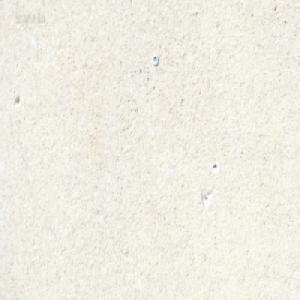Washer: (152, 53, 158, 66)
